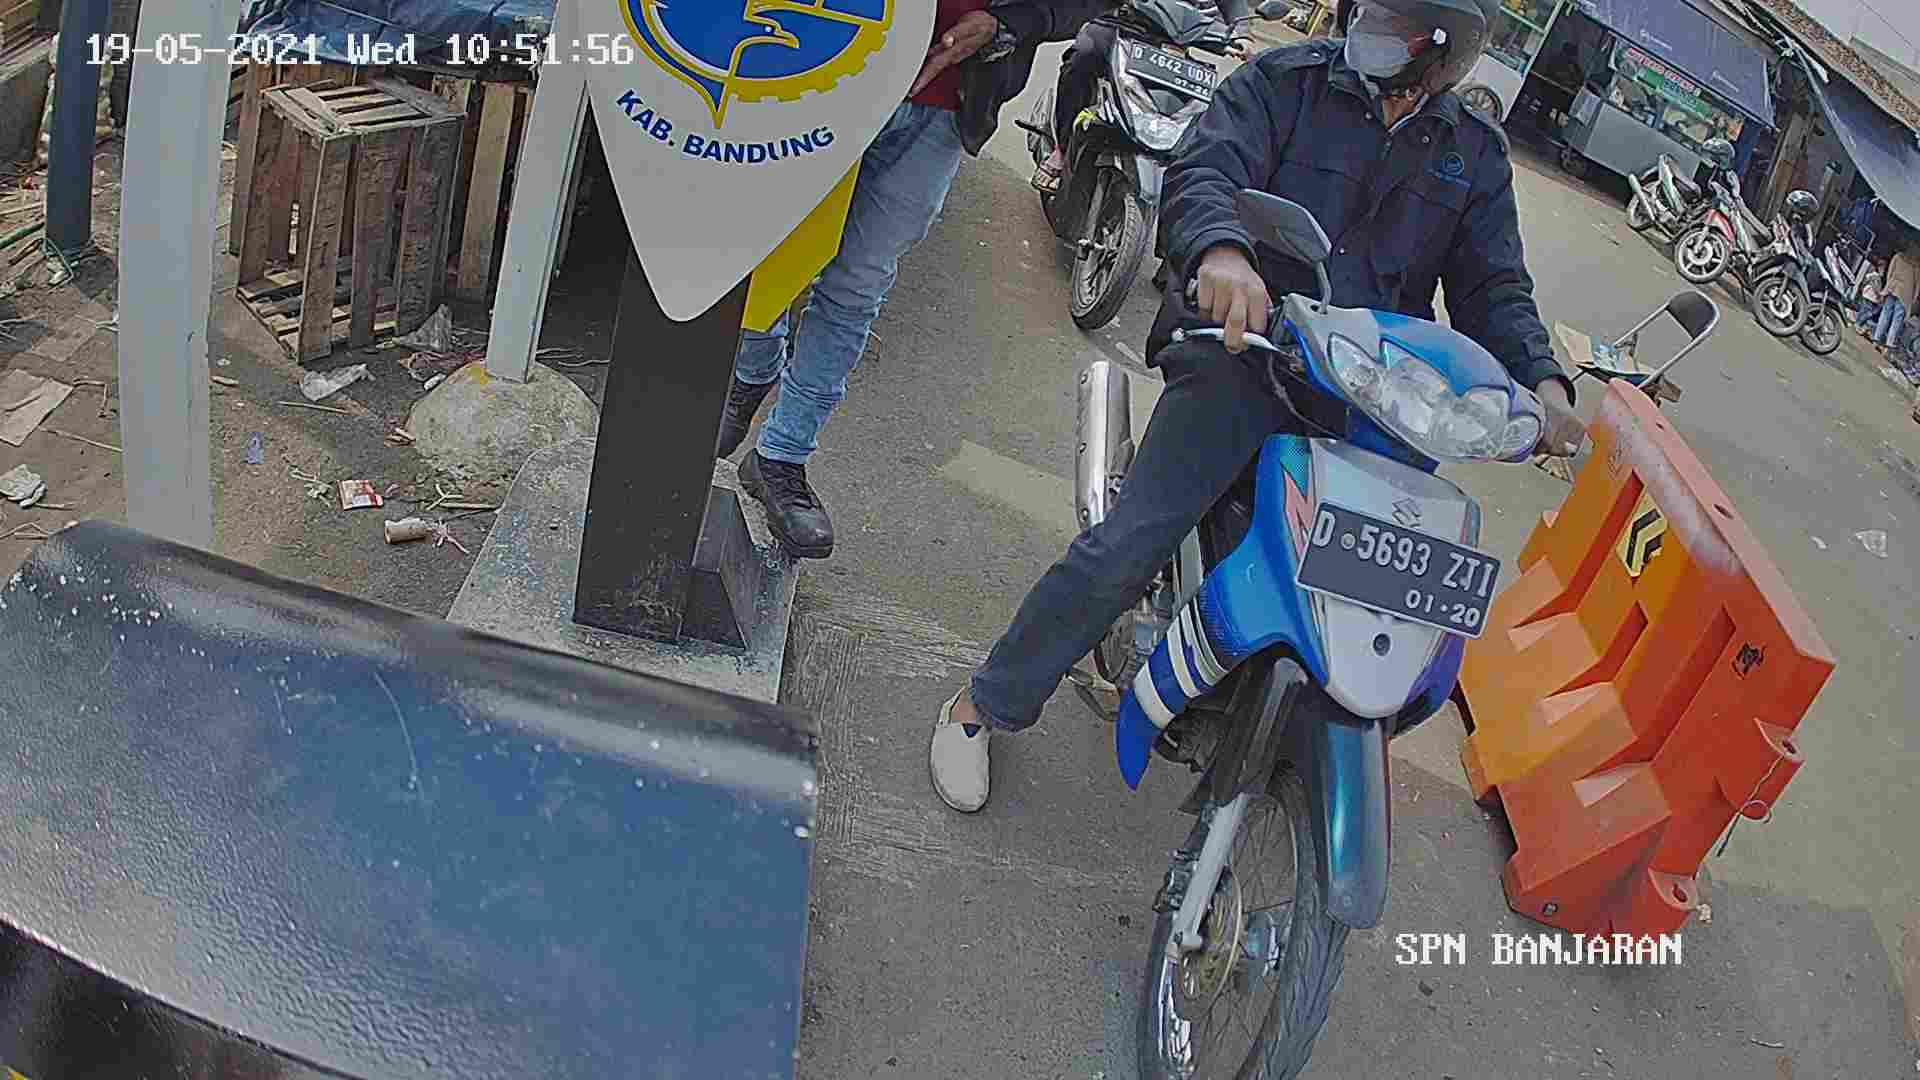motor: (1054, 239, 1545, 1080)
